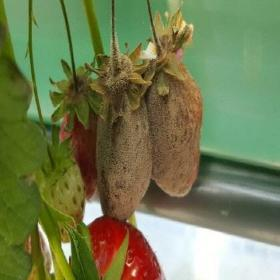Gray Mold: (84, 31, 153, 222), (137, 5, 203, 197)
